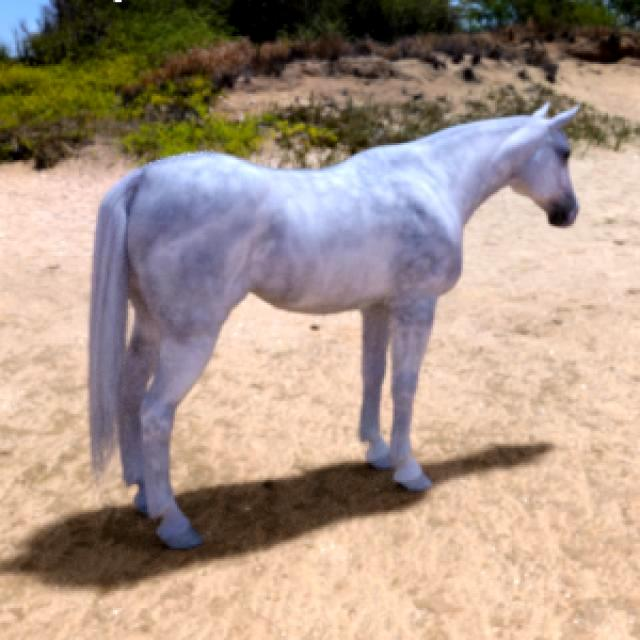horse: (92, 106, 578, 548)
